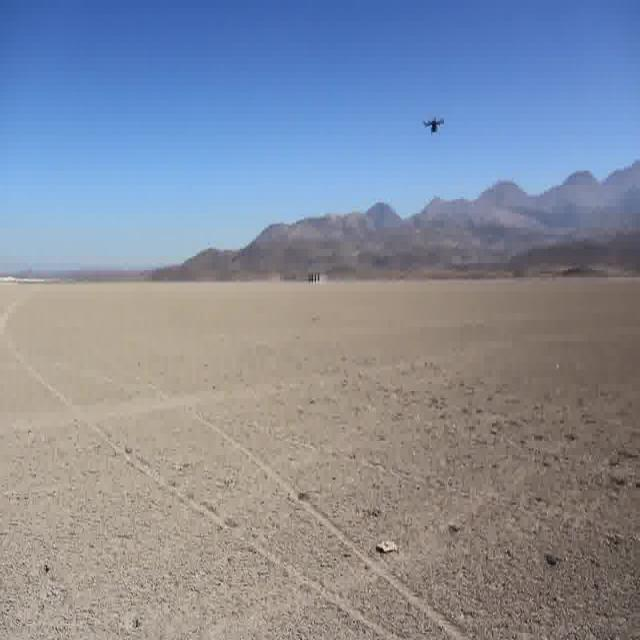drones: (418, 107, 449, 142)
